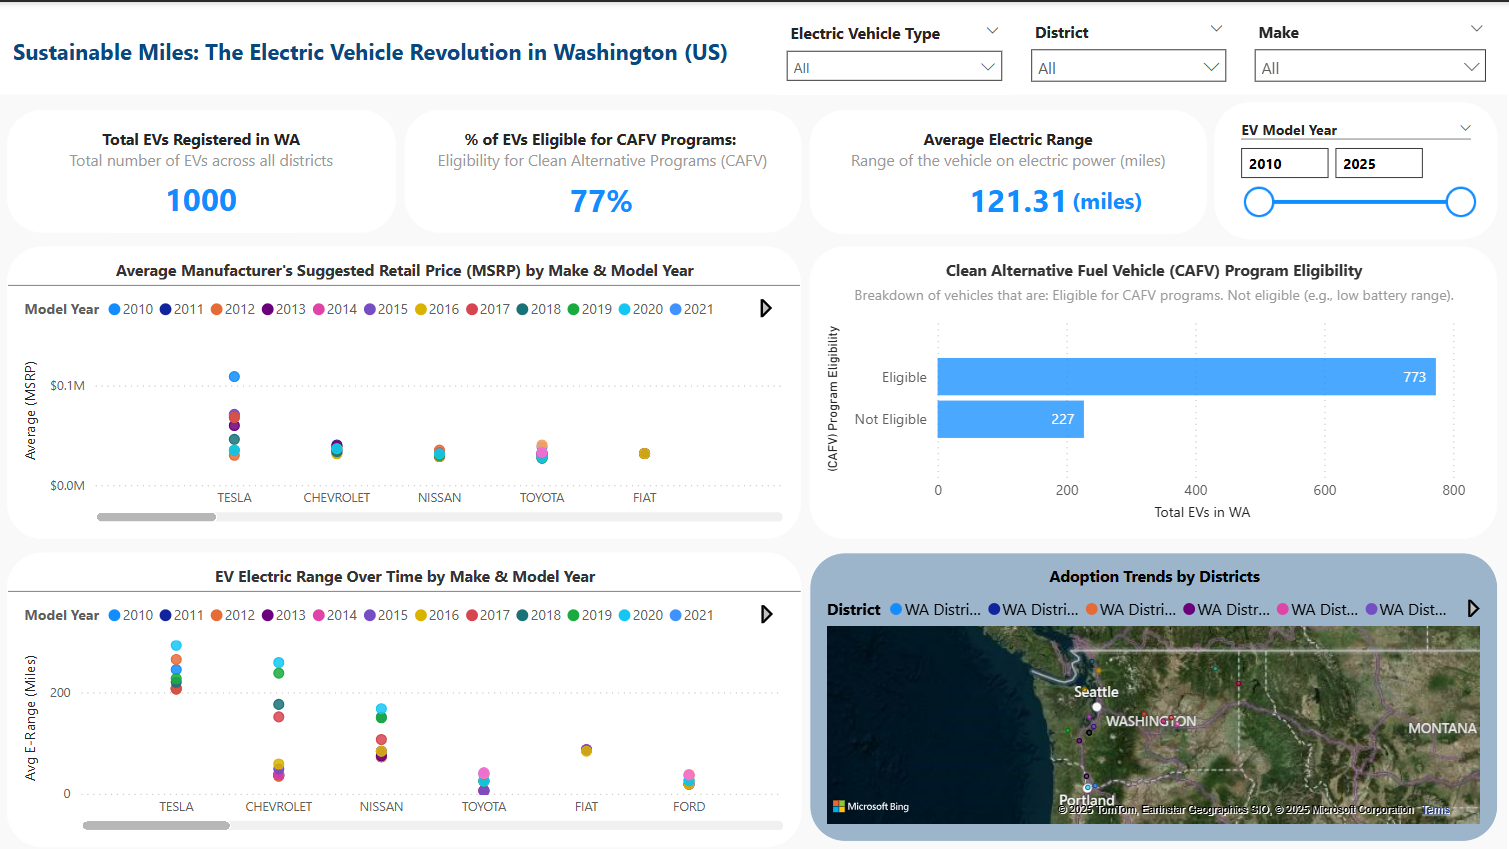

Layout of this report page (visuals, bound fields, positions):
{"tool":"powerbi","page":{"name":"Page 1","canvas":[1280,720],"ordinal":0},"visuals":[{"type":"shape","box":[0,0,1280,78.8],"z":0},{"type":"textbox","box":[7.3,24.5,632.9,38.1],"z":1000},{"type":"textbox","box":[7.3,91.6,330.1,104.3],"z":2000},{"type":"card","fields":{"Values":["EV_Population.Total EVs in WA"]},"box":[69.8,139.6,204.9,56.2],"z":3000},{"type":"map","title":"Adoption Trends by Districts","fields":{"Category":["EV_Population.State Hierarchy.State","EV_Population.State Hierarchy.District"],"Series":["EV_Population.District"]},"box":[688.8,467.5,583.8,245],"z":4000},{"type":"slicer","fields":{"Values":["EV_Population.Electric Vehicle Type"]},"box":[658.8,11.2,202.5,67.5],"z":5000},{"type":"barChart","title":"Clean Alternative Fuel Vehicle (CAFV) Program Eligibility","fields":{"Y":["EV_Population.Total EVs in WA"],"Category":["EV_Population.Clean Alternative Fuel Vehicle (CAFV) program - Eligibility"]},"box":[688.9,207.8,583.3,247.8],"z":6000},{"type":"textbox","box":[344.6,91.6,336.4,104.3],"z":7000},{"type":"slicer","fields":{"Values":["EV_Population.District"]},"box":[866.2,10,185,67.5],"z":8000},{"type":"slicer","fields":{"Values":["EV_Population.Model Year"]},"box":[1032.5,85,240,116.2],"z":9000},{"type":"slicer","fields":{"Values":["EV_Population.Make"]},"box":[1056.2,10,216.2,67.5],"z":10000},{"type":"card","fields":{"Values":["EV_Population.Percentage of Eligible EVs"]},"box":[411.2,146.2,201.2,43.8],"z":11000},{"type":"textbox","box":[688.8,91.2,337.5,105],"z":12000},{"type":"card","fields":{"Values":["Avg(EV_Population.Electric Range (Miles))"]},"box":[768.8,147.5,193.8,41.2],"z":13000},{"type":"scatterChart","title":"EV Electric Range Over Time by Make & Model Year","fields":{"X":["EV_Population.Make"],"Y":["EV_Population.Electric Range (Miles)"],"Series":["EV_Population.Model Year"]},"box":[7.5,467.5,673.8,250],"z":14000},{"type":"textbox","box":[905.4,150,80.8,36.9],"z":15000},{"type":"scatterChart","title":"Average Manufacturer''s Suggested Retail Price (MSRP) by Make & Model Year","fields":{"Series":["Average Manufacturer's Suggested Retail Price (MSRP) by Make & Model Year (2).Model Year"],"X":["Average Manufacturer's Suggested Retail Price (MSRP) by Make & Model Year (2).Make"],"Y":["Avg(Average Manufacturer's Suggested Retail Price (MSRP) by Make & Model Year (2).Base (MSRP) Manufacturer’s Suggested R"]},"box":[7.8,207.8,673.3,247.8],"z":16000}]}

Visuals, with their boxes in screenshot pixels (x1, y1, x2, y2), scaled from the page's 1280x720 canvas onto the 1509x849 screenshot:
shape: 0:0:1508:93
textbox: 9:29:755:74
textbox: 9:108:398:231
card - EV_Population.Total EVs in WA: 82:165:324:231
"Adoption Trends by Districts" map: 812:551:1500:840
slicer - EV_Population.Electric Vehicle Type: 777:13:1015:93
"Clean Alternative Fuel Vehicle (CAFV) Program Eligibility" barChart: 812:245:1500:537
textbox: 406:108:803:231
slicer - EV_Population.District: 1021:12:1239:91
slicer - EV_Population.Model Year: 1217:100:1500:237
slicer - EV_Population.Make: 1245:12:1500:91
card - EV_Population.Percentage of Eligible EVs: 485:172:722:224
textbox: 812:108:1210:231
card - Avg(EV_Population.Electric Range (Miles)): 906:174:1135:223
"EV Electric Range Over Time by Make & Model Year" scatterChart: 9:551:803:846
textbox: 1067:177:1163:220
"Average Manufacturer''s Suggested Retail Price (MSRP) by Make & Model Year" scatterChart: 9:245:803:537
